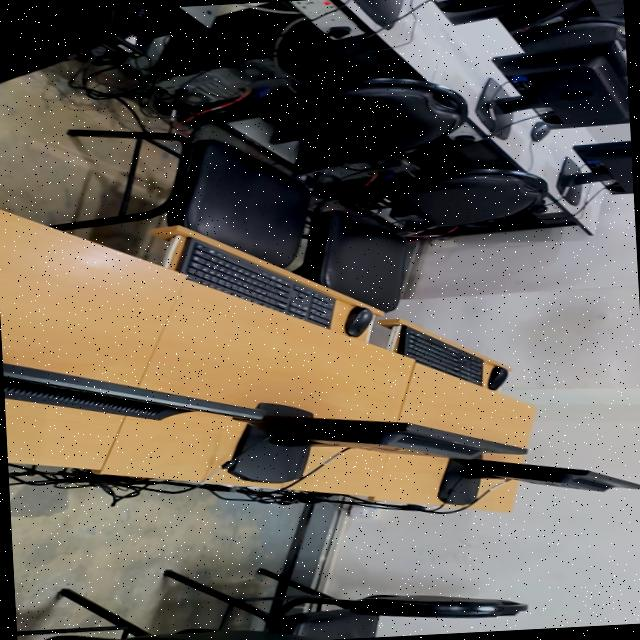Chair: (52, 78, 466, 268), (290, 168, 546, 312), (164, 569, 527, 640), (0, 9, 132, 84), (45, 620, 312, 640), (515, 18, 626, 55), (497, 0, 585, 33)
Cpu: (178, 58, 297, 105), (297, 156, 417, 186)
Keyboard: (176, 239, 333, 328), (396, 326, 483, 385)
Monitor: (2, 364, 265, 420), (250, 415, 526, 459), (492, 42, 630, 128), (443, 459, 640, 492), (556, 141, 633, 200), (436, 0, 528, 12)
Mouse: (344, 307, 372, 337), (487, 366, 508, 390), (530, 122, 555, 142)
